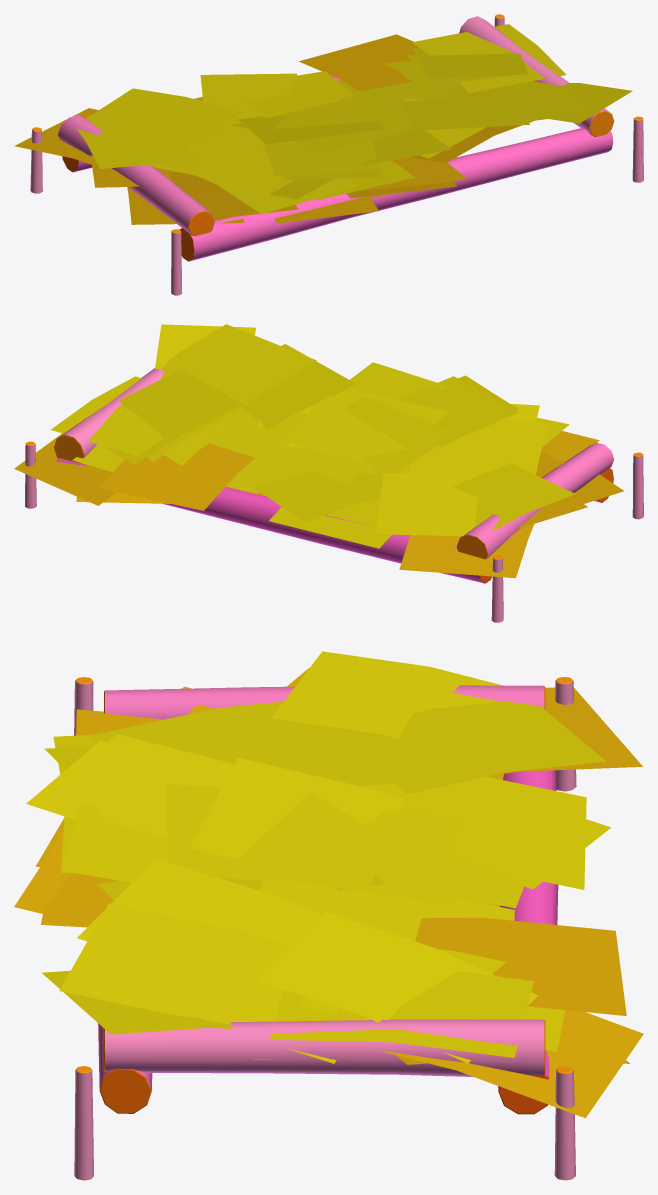
The model's file is camp_bough_bed.glb.
3 views of the same model, one above another, from view 1: azimuth 30°, elevation 25°; view 2: azimuth 150°, elevation 25°; view 3: azimuth 270°, elevation 25° (orthographic). The views are drawn at different scales.
Visible parts, largest first — view 1: Model; view 2: Model; view 3: Model.
Boxes of the visible parts, x1=… form: Model: x1=14, y1=14, x2=643, y2=295; Model: x1=14, y1=324, x2=643, y2=622; Model: x1=14, y1=651, x2=643, y2=1180.
Size of the model in its own units: 2.35 by 0.386 by 1.51.
